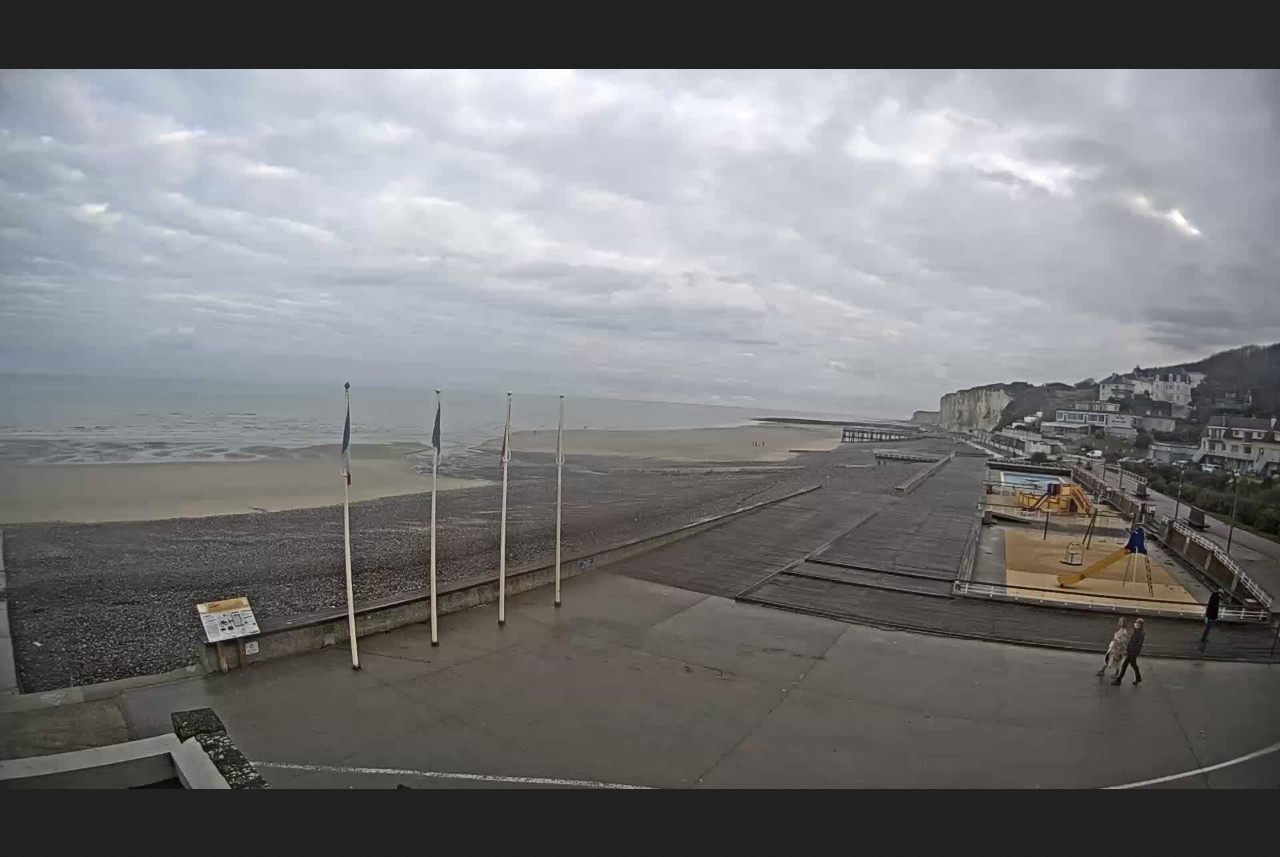no: (332, 387, 358, 494), (422, 391, 447, 461), (495, 400, 515, 469)
